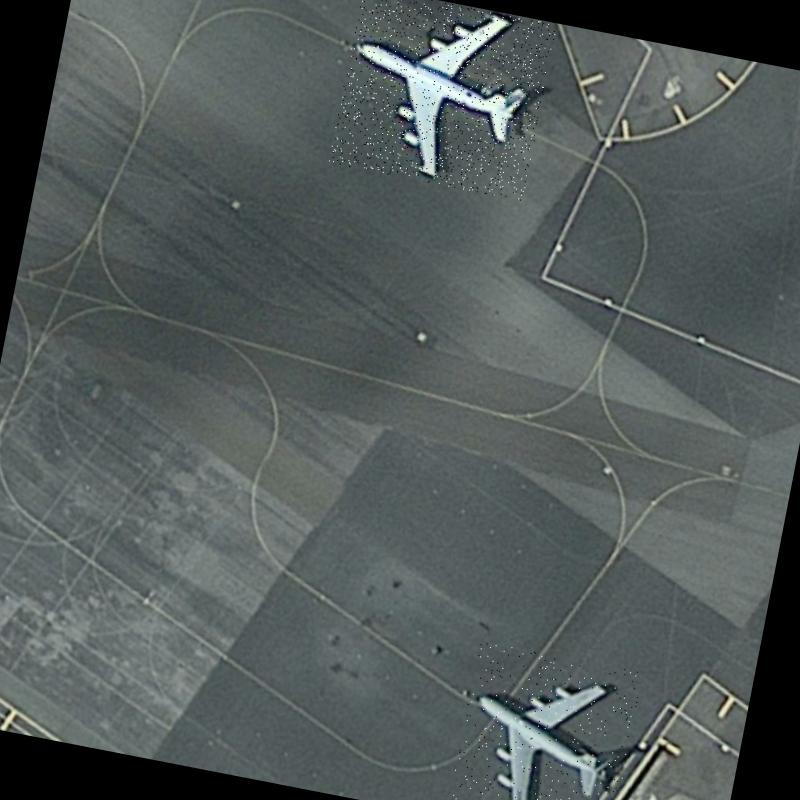A11: (328, 0, 557, 200)
A14: (448, 640, 643, 800)
